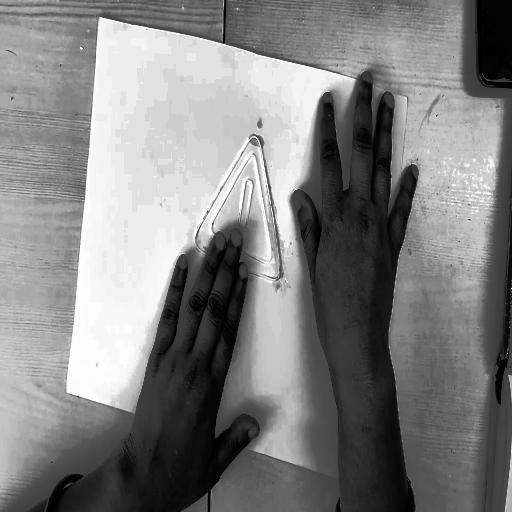bottom_left: (63, 380, 72, 398)
bottom_right: (375, 472, 383, 488)
signboard: (178, 123, 311, 377)
top_left: (94, 13, 104, 28)
top_right: (401, 88, 411, 104)
